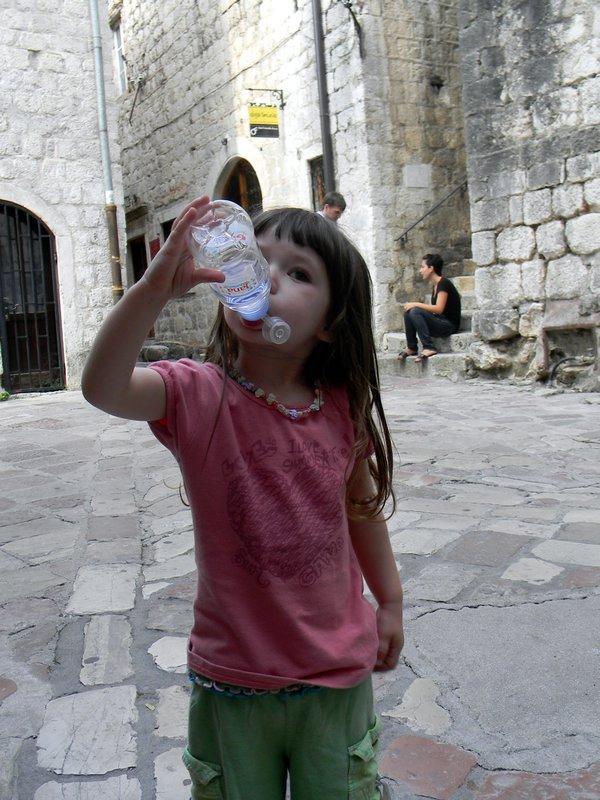person: (83, 198, 406, 800)
